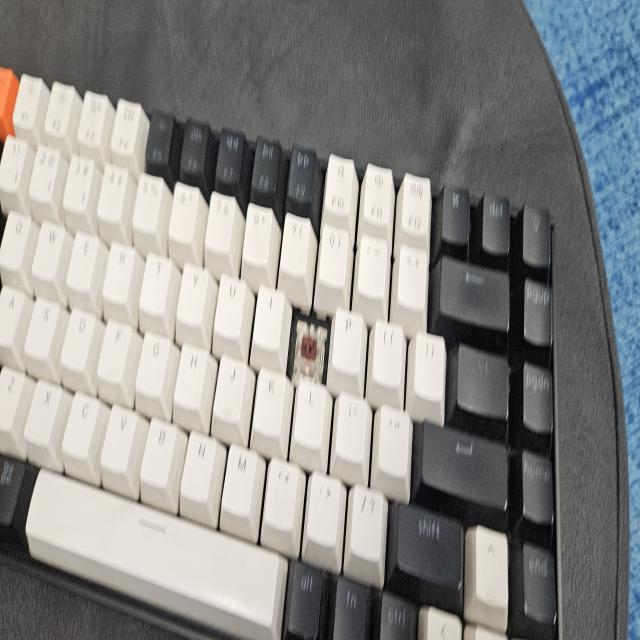C: (292, 322, 325, 374)
